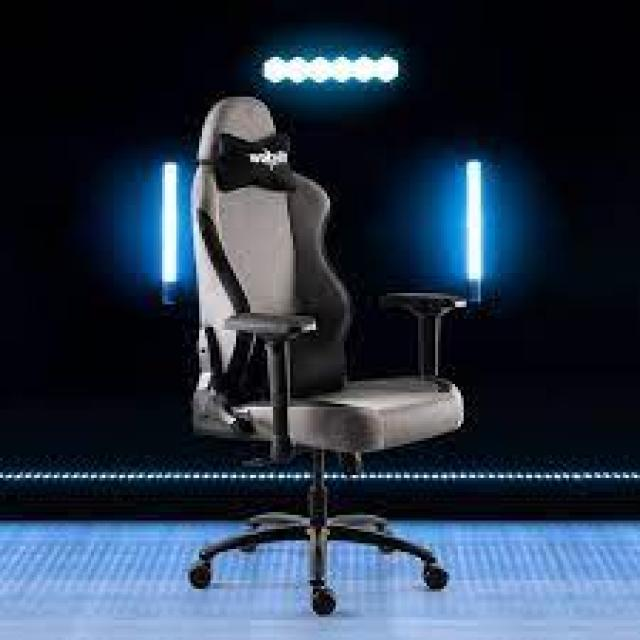chair: (26, 62, 561, 640)
